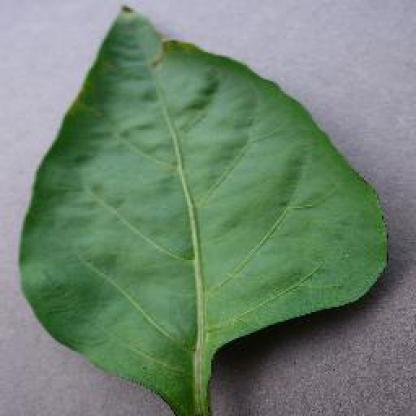good leaf: (16, 7, 387, 414)
